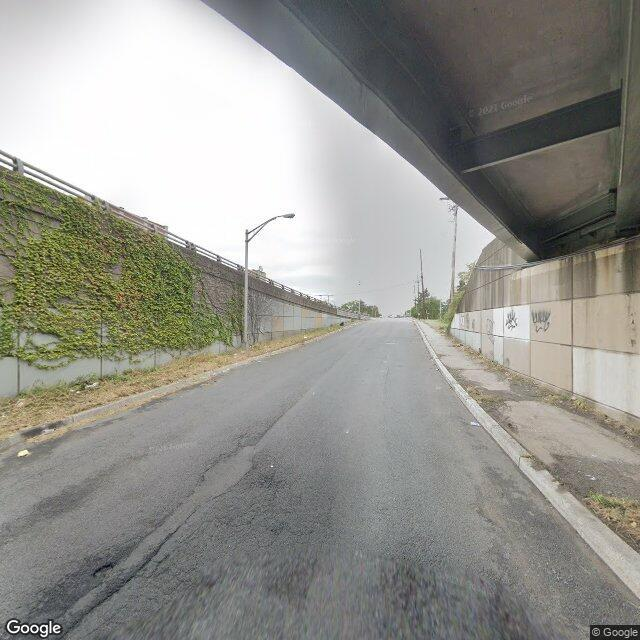pothole: (80, 550, 129, 587)
